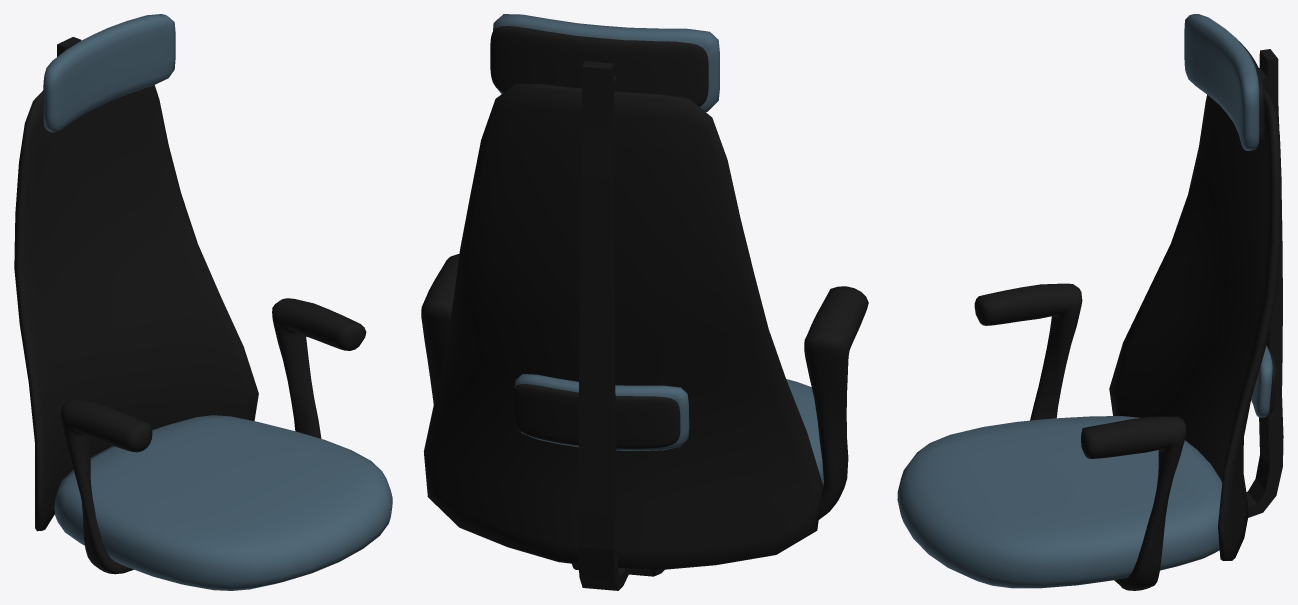
Rendered from topChair.glb.
3 views of the same model, side by side, from view 1: azimuth 30°, elevation 25°; view 2: azimuth 150°, elevation 25°; view 3: azimuth 270°, elevation 25° (orthographic). The views are drawn at different scales.
Parts seen in each view (by area): view 1: Cube.021, Cube.020, Plane.001, Cube.001; view 2: Cube.021, Cube.044, Cube.002, Plane.001, Cube.043, Cube.001, Cube.015, Cube.020; view 3: Cube.020, Cube.021, Plane.001, Cube.001, Cube.044, Cube.015.
Boxes of the visible parts, x1=… form: Cube.021: x1=14, y1=85, x2=258, y2=531; Cube.020: x1=54, y1=415, x2=392, y2=590; Plane.001: x1=61, y1=298, x2=366, y2=574; Cube.001: x1=43, y1=14, x2=175, y2=132; Cube.021: x1=423, y1=83, x2=823, y2=570; Cube.044: x1=578, y1=61, x2=630, y2=590; Cube.002: x1=490, y1=26, x2=708, y2=106; Plane.001: x1=421, y1=254, x2=868, y2=519; Cube.043: x1=513, y1=384, x2=680, y2=448; Cube.001: x1=493, y1=14, x2=719, y2=111; Cube.015: x1=514, y1=374, x2=689, y2=450; Cube.020: x1=786, y1=379, x2=823, y2=489; Cube.020: x1=897, y1=416, x2=1222, y2=588; Cube.021: x1=1109, y1=88, x2=1281, y2=560; Plane.001: x1=974, y1=283, x2=1186, y2=590; Cube.001: x1=1184, y1=14, x2=1259, y2=150; Cube.044: x1=1246, y1=49, x2=1283, y2=517; Cube.015: x1=1251, y1=346, x2=1272, y2=417.
Size of the model in its own units: 1.26 by 1.79 by 1.27.
